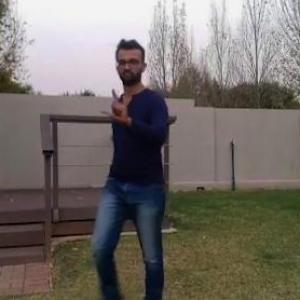land_hand: (100, 86, 134, 128)
